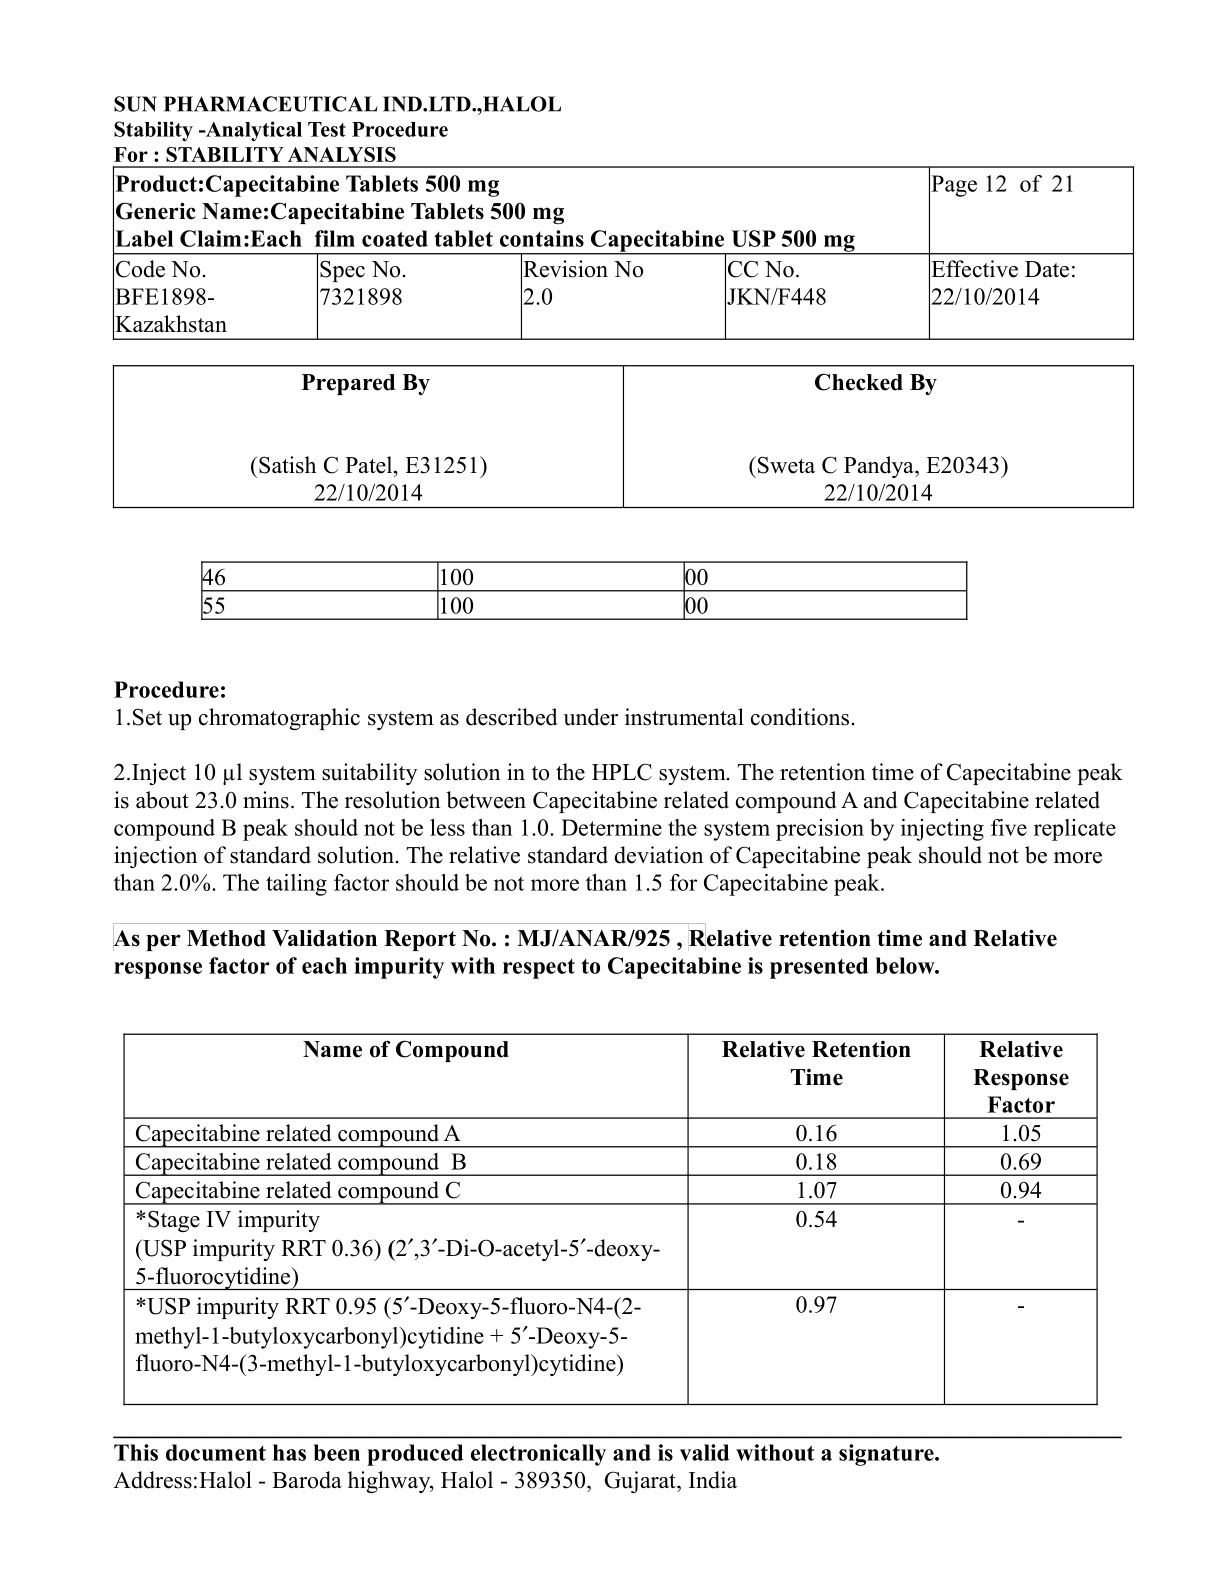full_lined: (122, 1032, 1101, 1407), (112, 365, 1135, 509), (201, 561, 969, 622)
merged_cells: (112, 166, 1135, 341)
